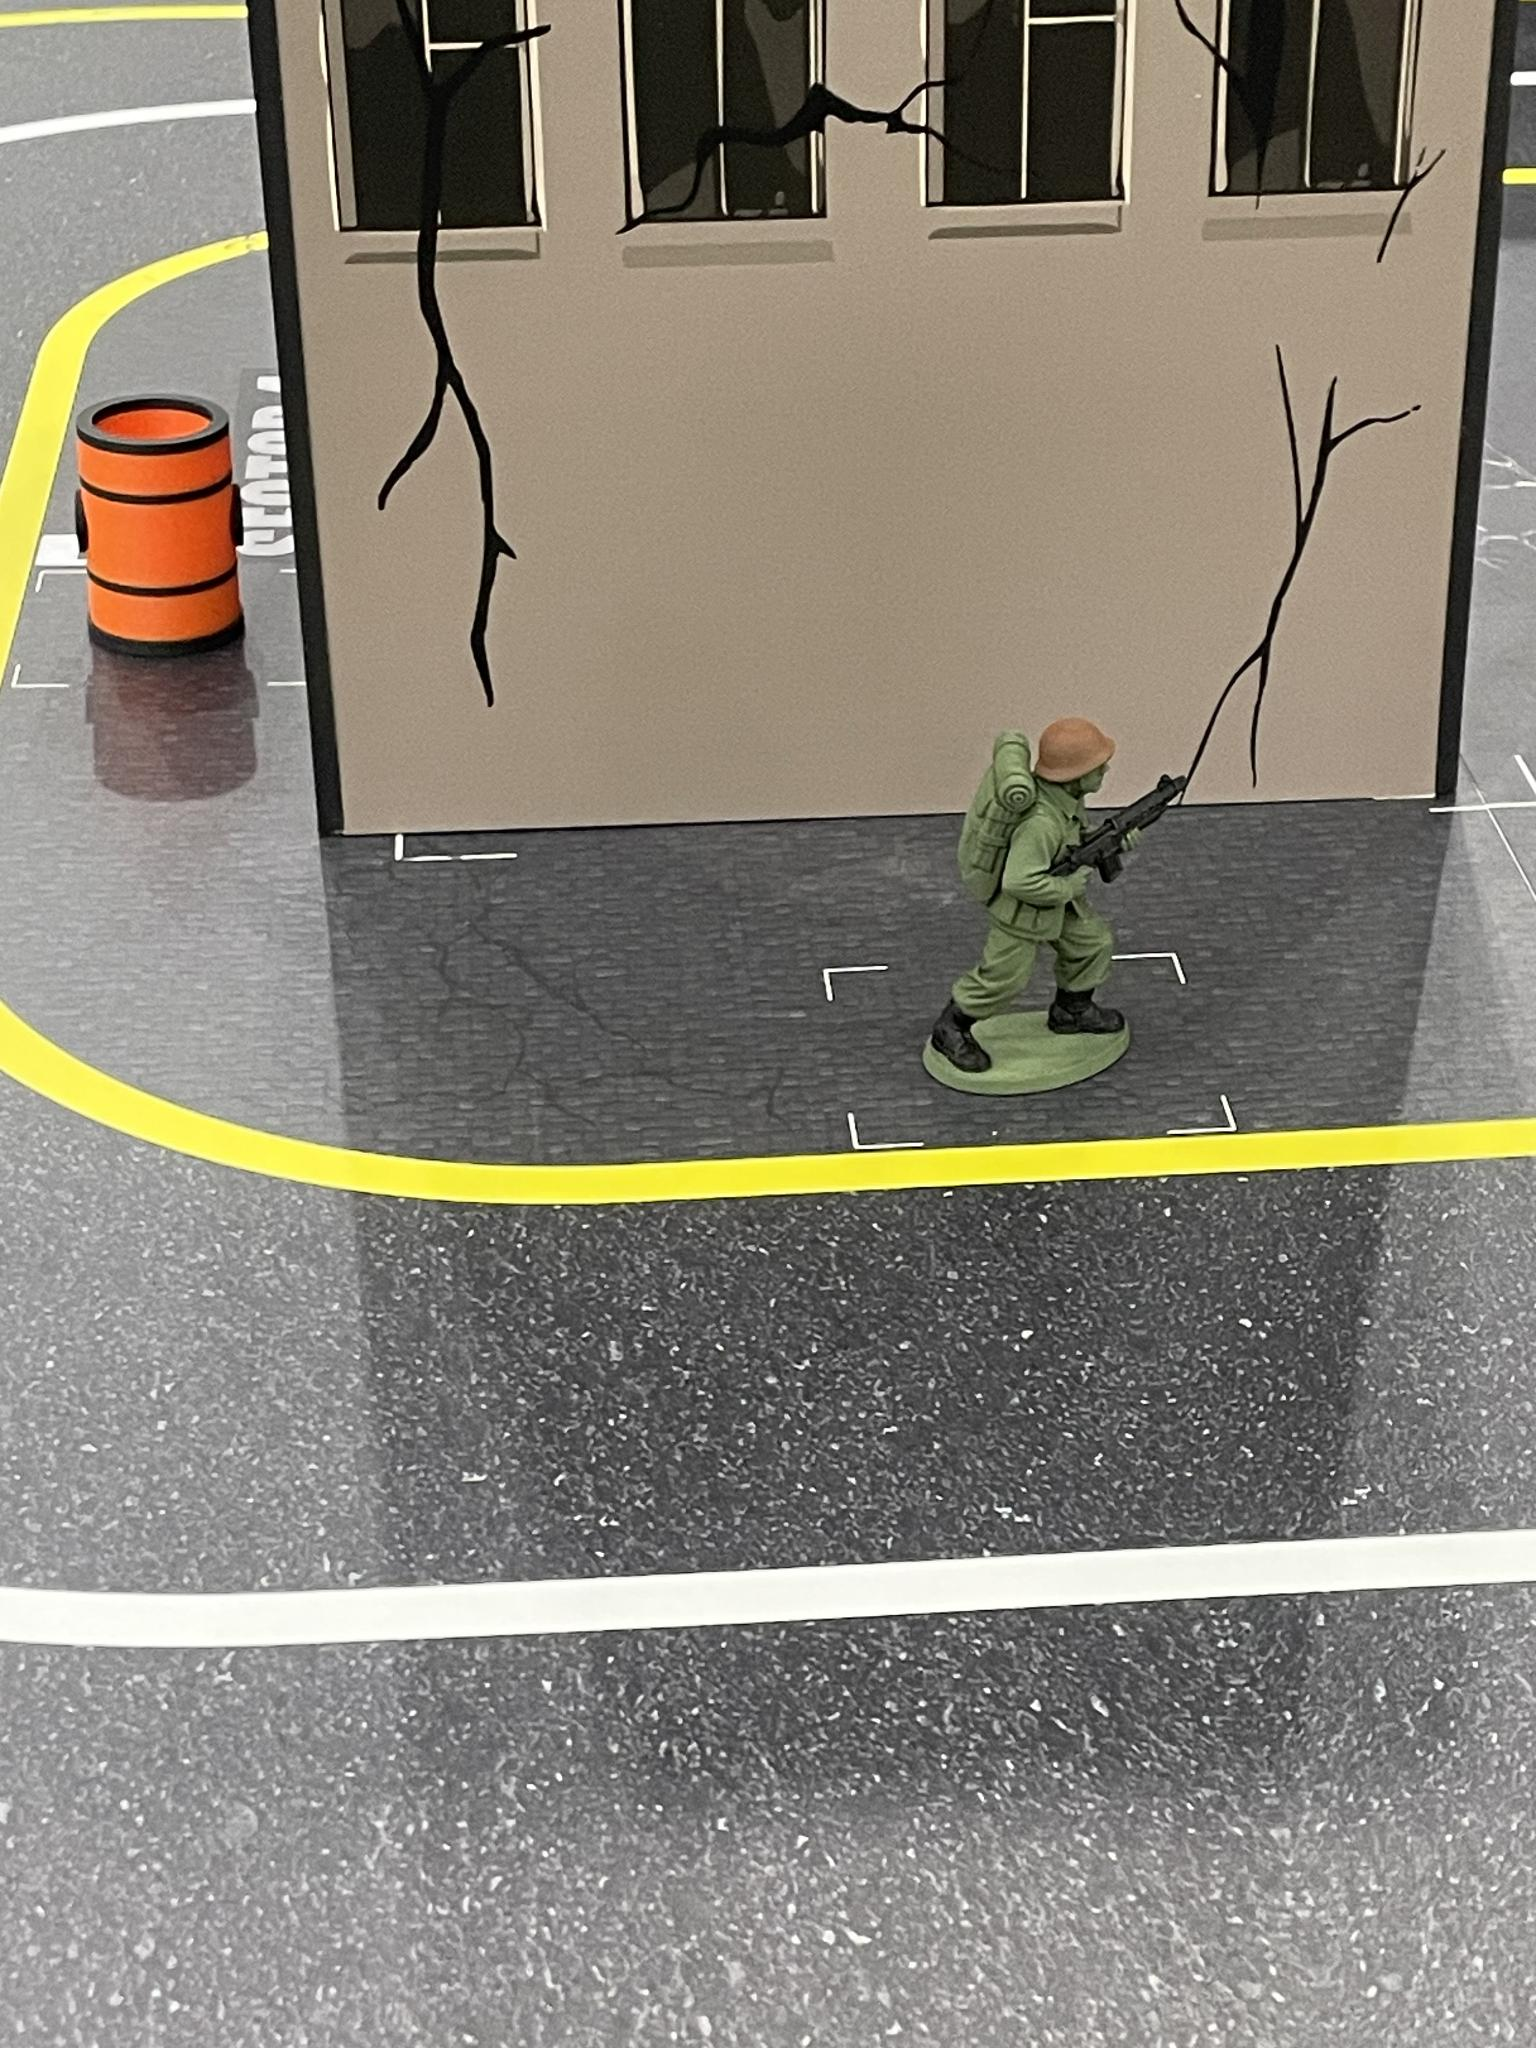Enemy: (915, 719, 1181, 1103)
Hazmat: (63, 385, 260, 666)
